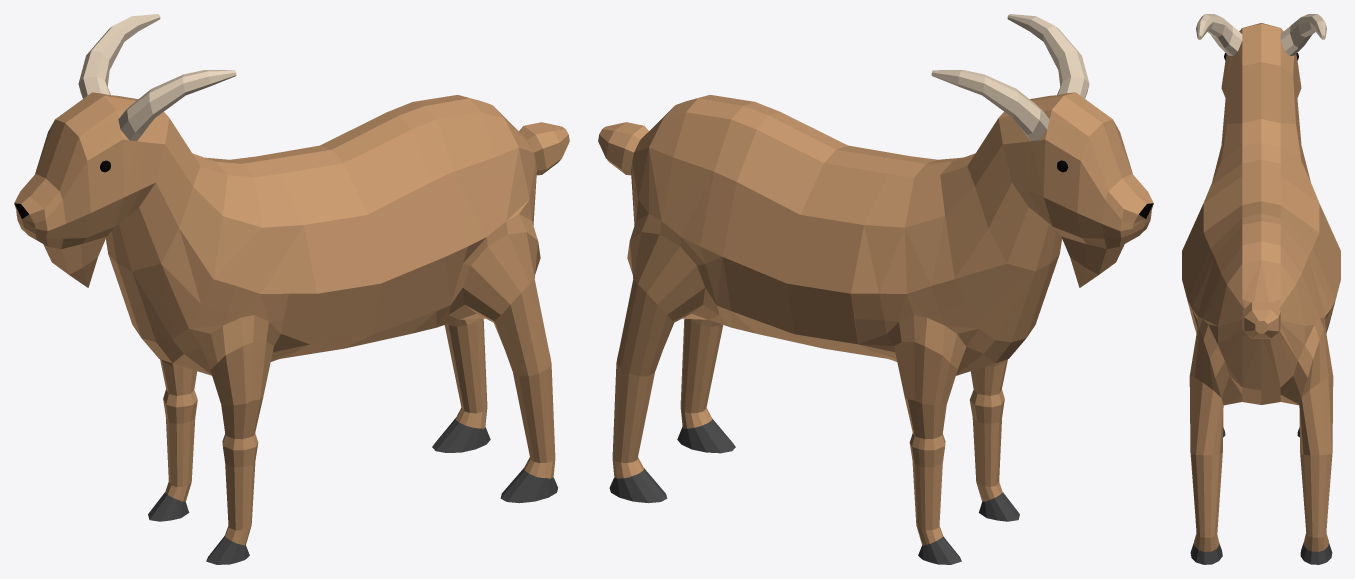
The picture shows the model from 3 angles, left to right: view 1: azimuth 30°, elevation 25°; view 2: azimuth 150°, elevation 25°; view 3: azimuth 270°, elevation 25°; orthographic projection. The views are drawn at different scales.
Visible parts, largest first — view 1: Plane; view 2: Plane; view 3: Plane.
Boxes of the visible parts, left/top/right/bottom form: Plane: left=14, top=14, right=569, bottom=564; Plane: left=598, top=14, right=1153, bottom=564; Plane: left=1182, top=14, right=1340, bottom=564.
Size of the model in its own units: 7.97 by 7.03 by 2.49.
